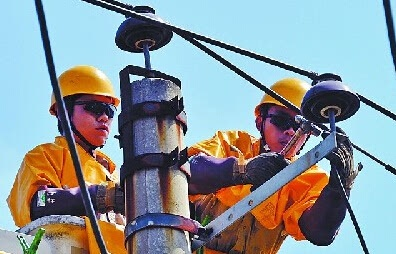yellow: (45, 63, 119, 146), (257, 73, 315, 161)
